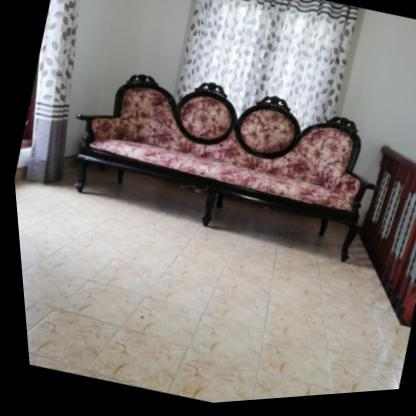Sofa: (47, 46, 395, 287)
